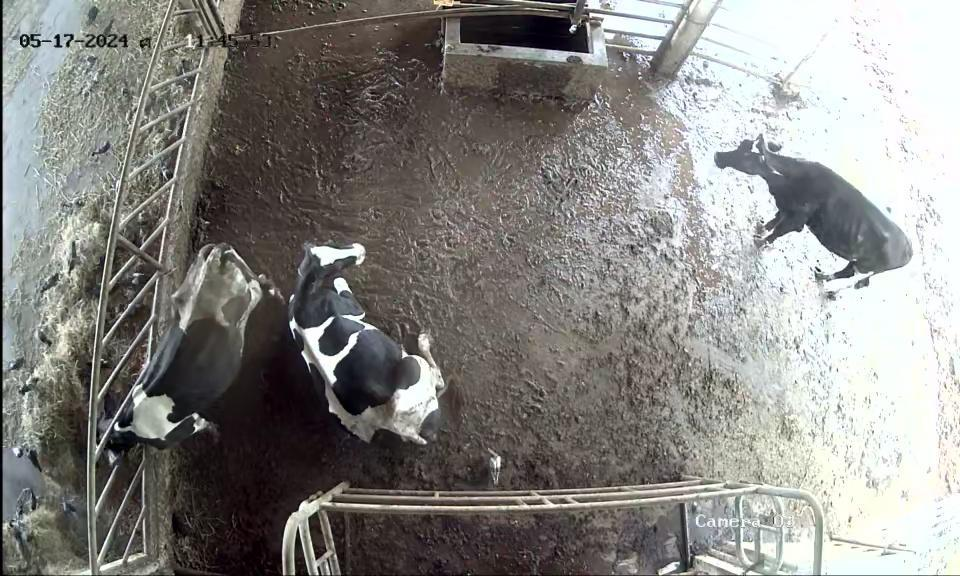eat: (57, 375, 174, 478)
lay: (270, 227, 485, 454)
stand: (702, 124, 927, 295)
